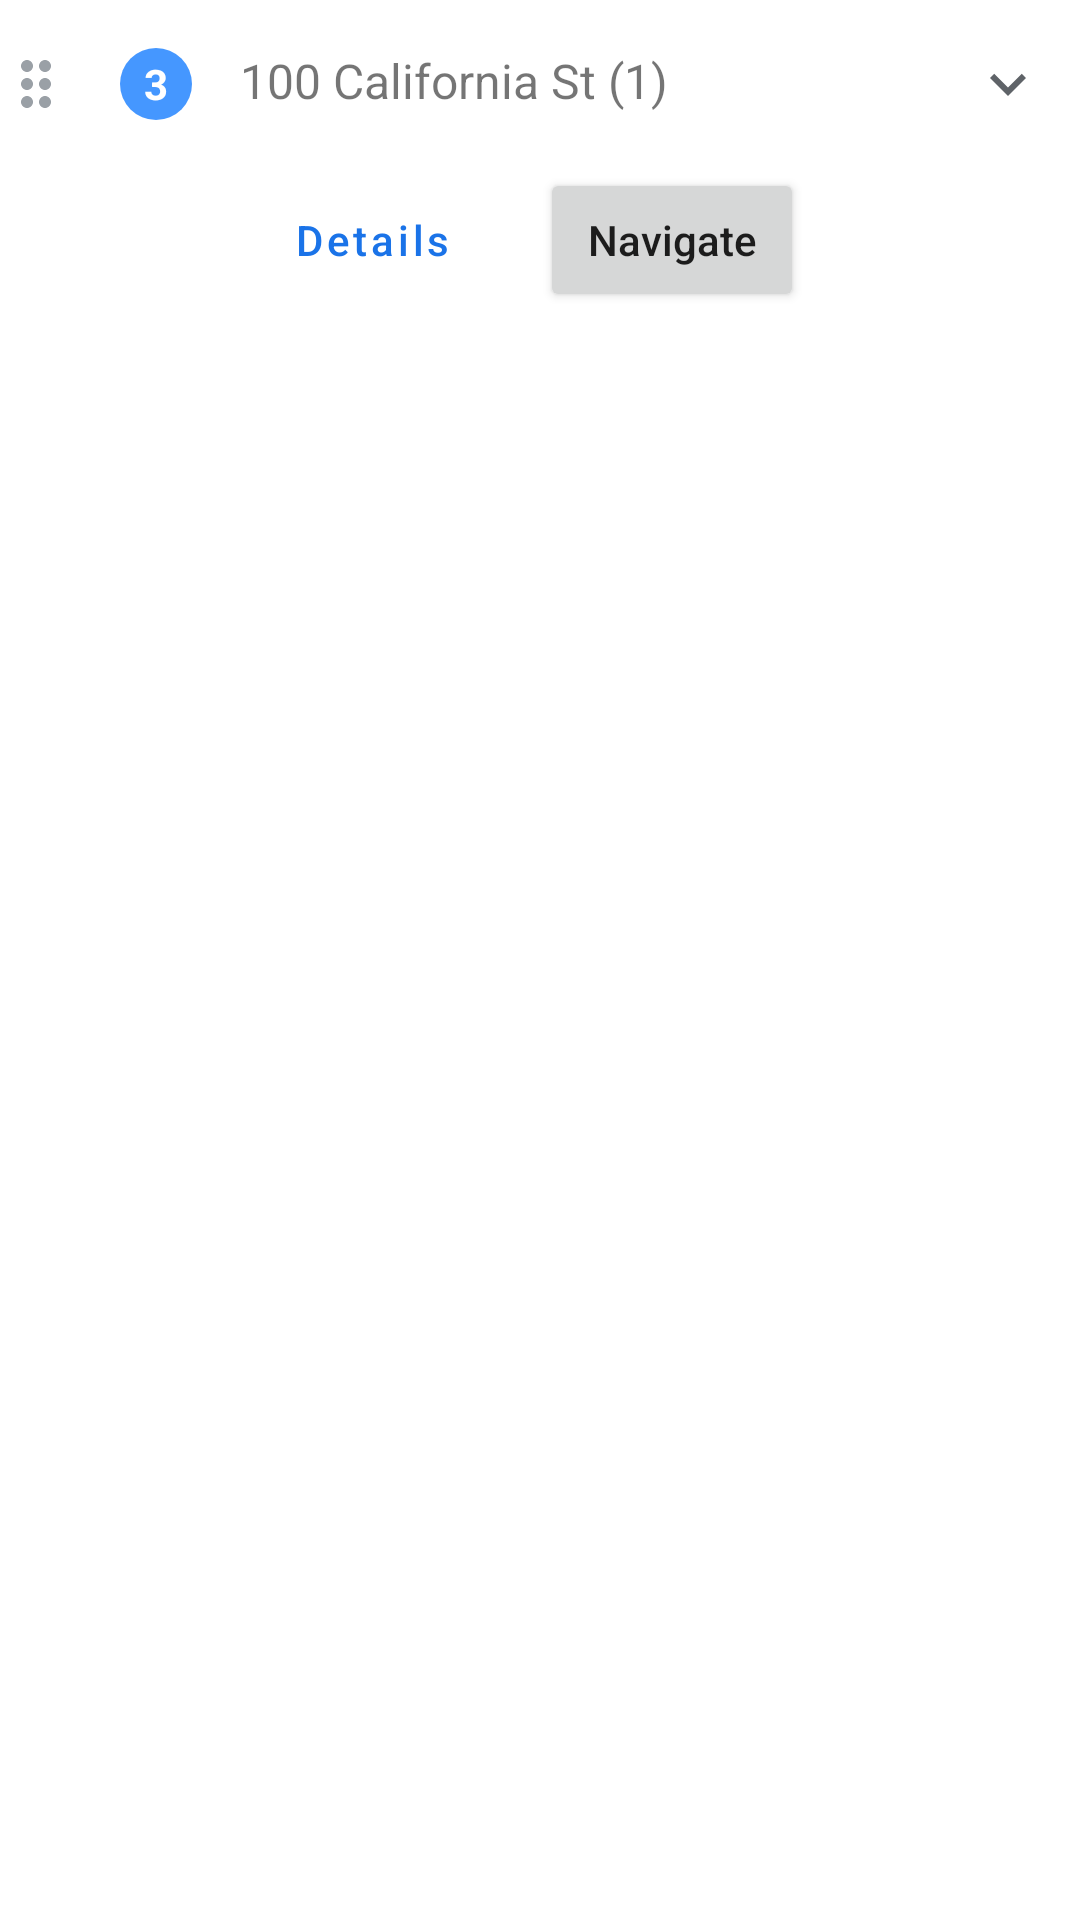

Point at icon controls on the screen. Image size 1080 x 1920, points as point (x, y).
drag indicator: point (36, 84)
expand more arrow: point (1008, 85)
